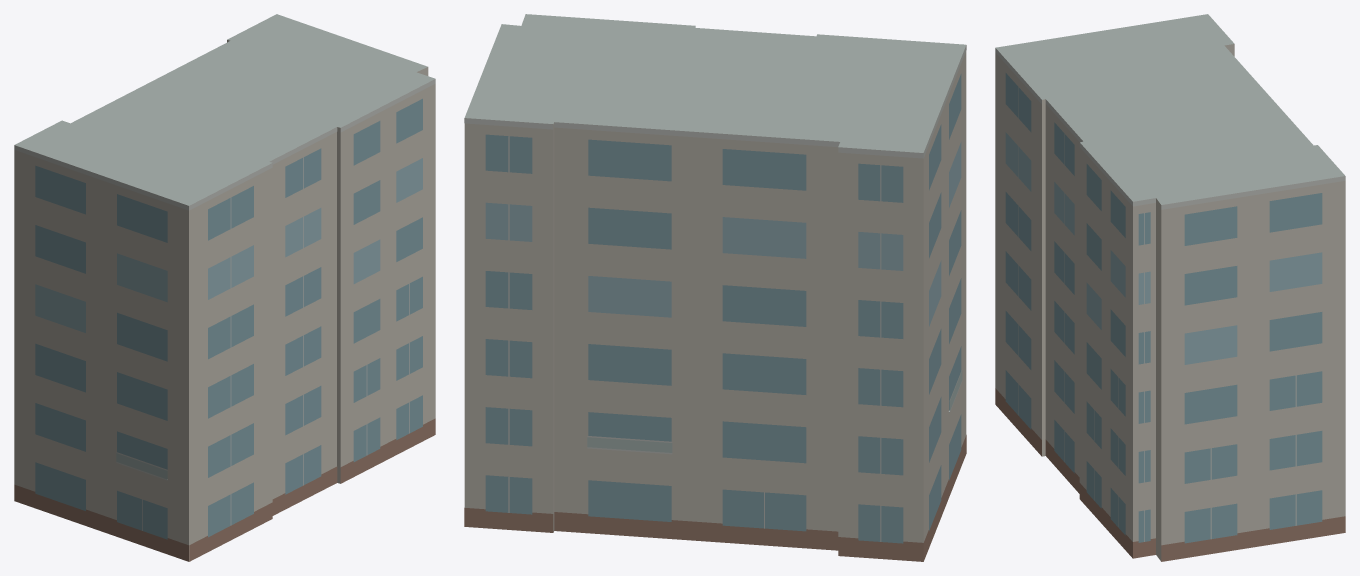
Rendered from survey-upis-32522263.glb.
3 renders of one model, left to right at view 1: azimuth 30°, elevation 25°; view 2: azimuth 150°, elevation 25°; view 3: azimuth 270°, elevation 25°, orthographic. The views are drawn at different scales.
Parts seen in each view (by area): view 1: survey-upis-32522263.tmp; view 2: survey-upis-32522263.tmp; view 3: survey-upis-32522263.tmp.
Boxes of the visible parts, <box> form: survey-upis-32522263.tmp: <box>14,14,435,561</box>; survey-upis-32522263.tmp: <box>464,14,966,561</box>; survey-upis-32522263.tmp: <box>995,14,1345,561</box>.
Bounding box in the file's own units: 21.03 × 18.3 × 16.29.
